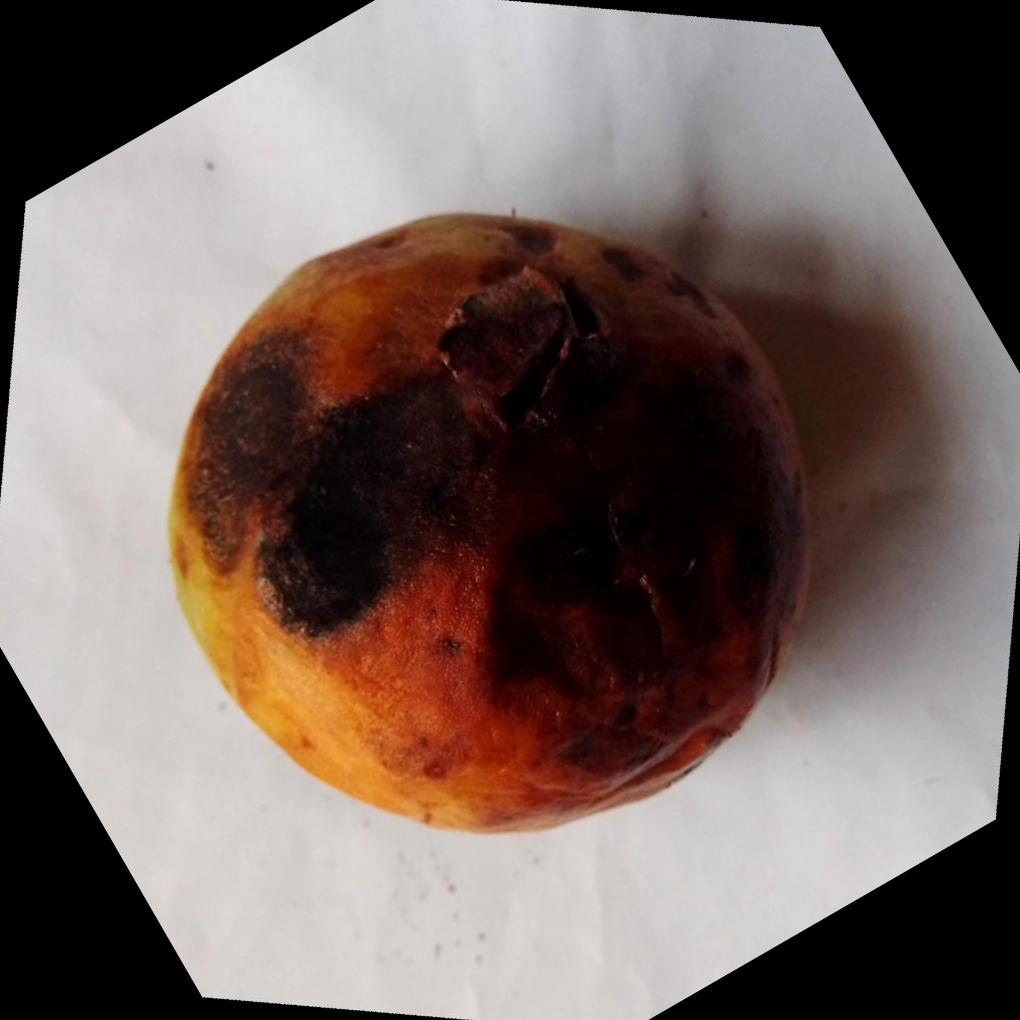FreshOrange: (166, 210, 814, 840)
